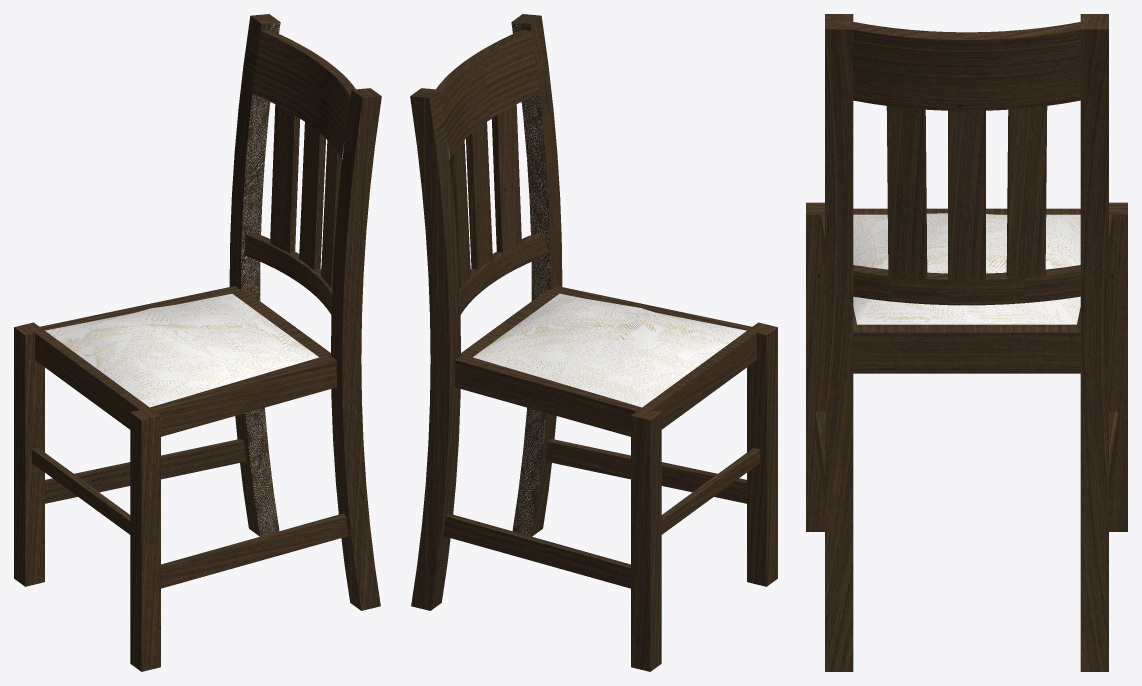
The model's file is dining_chair.dae.
3 views of the same model, side by side, from view 1: azimuth 30°, elevation 25°; view 2: azimuth 150°, elevation 25°; view 3: azimuth 270°, elevation 25° (orthographic). The views are drawn at different scales.
Parts seen in each view (by area): view 1: skpFA73 (×14); view 2: skpFA73 (×14); view 3: skpFA73 (×12).
Part boxes in pixels (left/top/right/bottom): skpFA73 (×14): left=14, top=14, right=381, bottom=671; skpFA73 (×14): left=410, top=14, right=777, bottom=671; skpFA73 (×12): left=806, top=14, right=1127, bottom=671.
Size of the model in its own units: 19.26 by 17 by 37.71.
3 materials, 1 textured.
